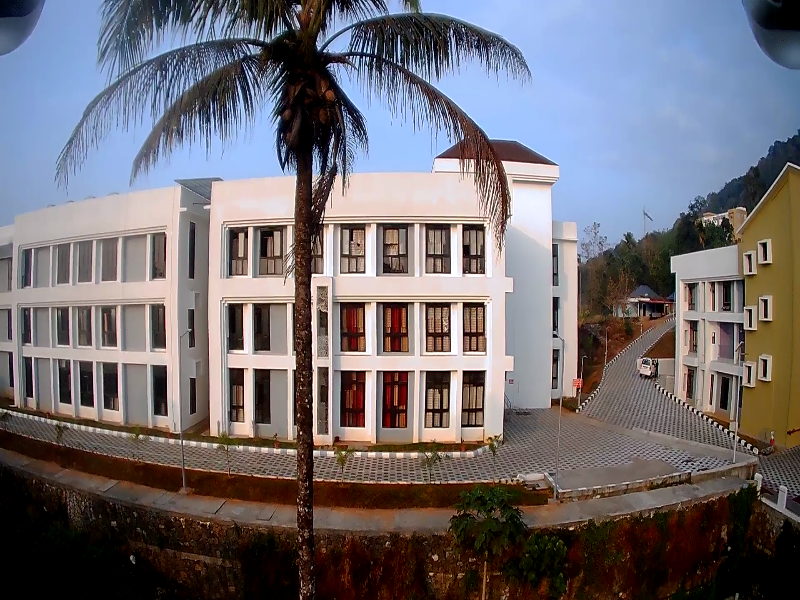coconut: (321, 82, 339, 107), (279, 107, 295, 124)
